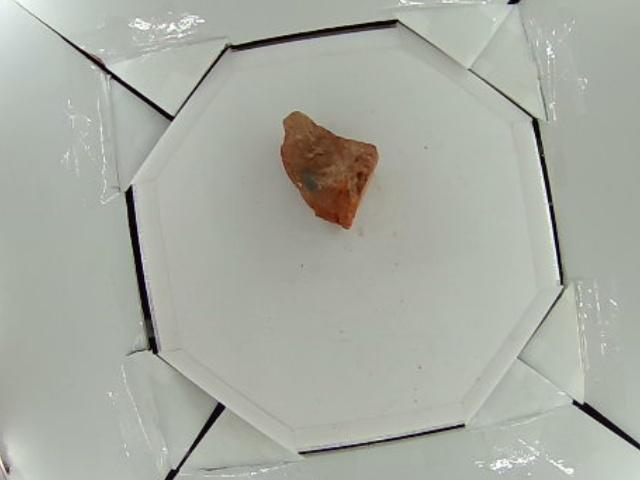Brisk: (281, 110, 378, 227)
